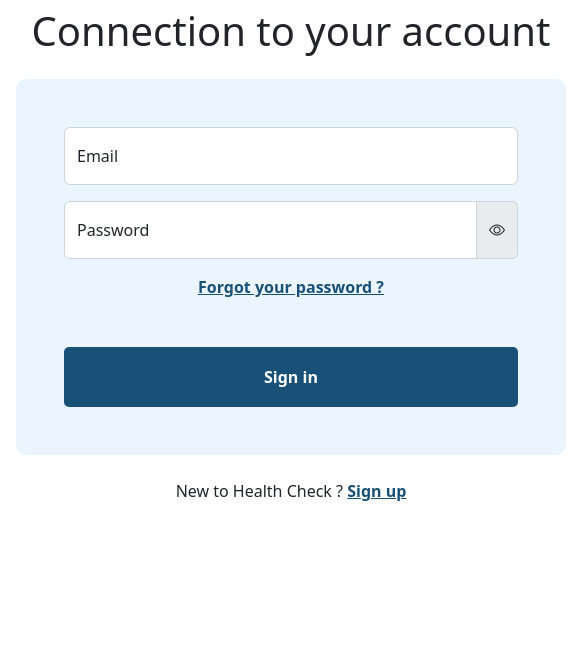
SignIn › after form submission › when user status is pending › displays a message to resend a confirmation link
The width and height of the screenshot is (583, 646).
In the field labelled "Email": (291, 156) [64, 127, 518, 185], type "vianneyaccart@gmail.com"
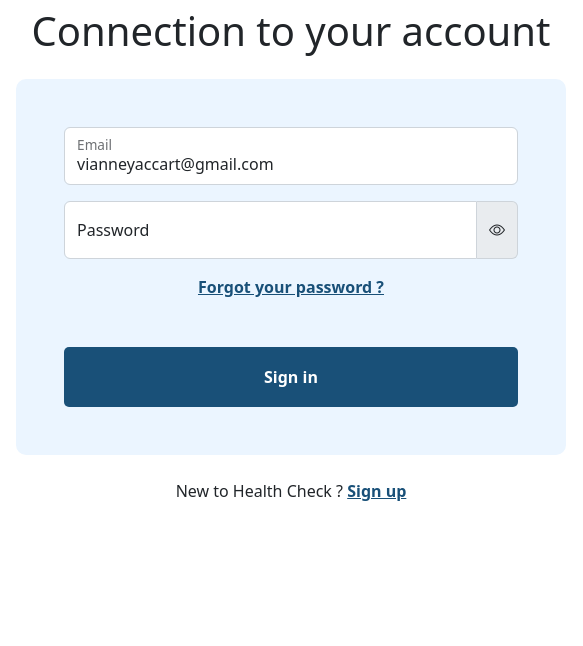
In the password field with test id "password": (270, 230) [64, 201, 477, 259], type "password"
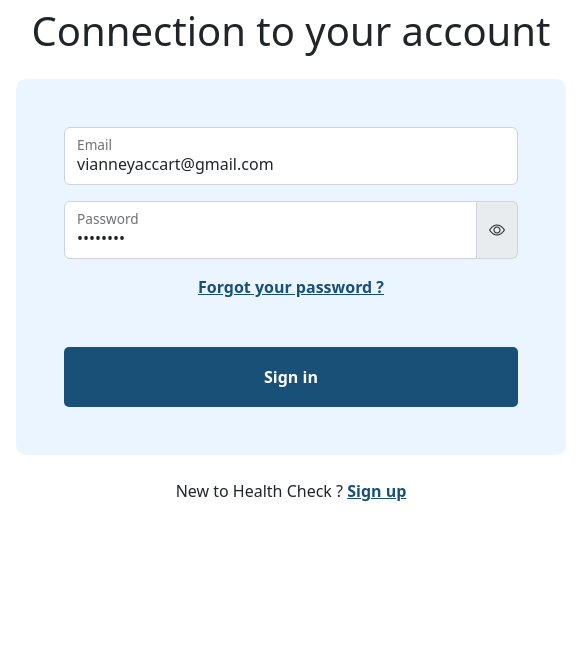
Click the button "Sign in": (291, 377) [64, 347, 518, 407]
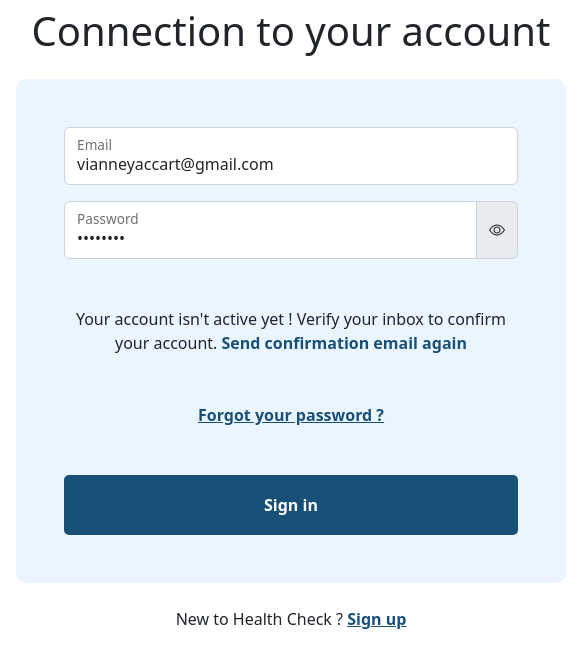
Now the text "Send confirmation email again" is shown, box [222, 332, 467, 354]
Now the element with test id "errorMessage" is shown, box [64, 307, 518, 355]
